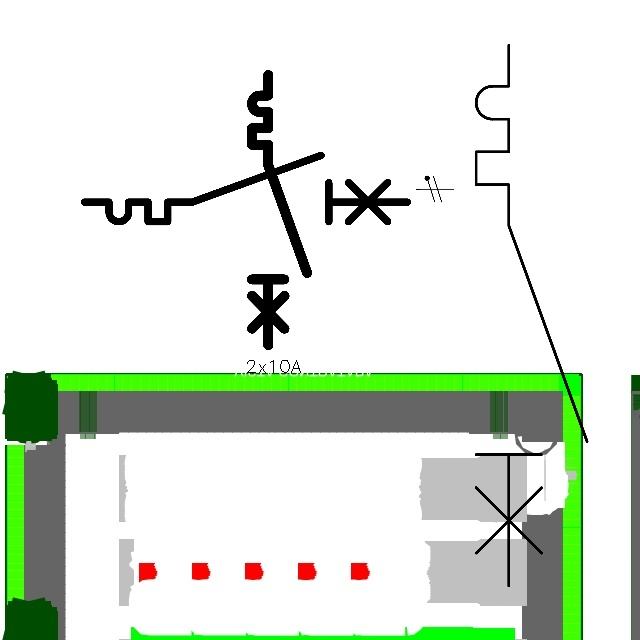interruptor_termomagnetico: (462, 31, 601, 600), (76, 147, 416, 230), (245, 68, 314, 351)
